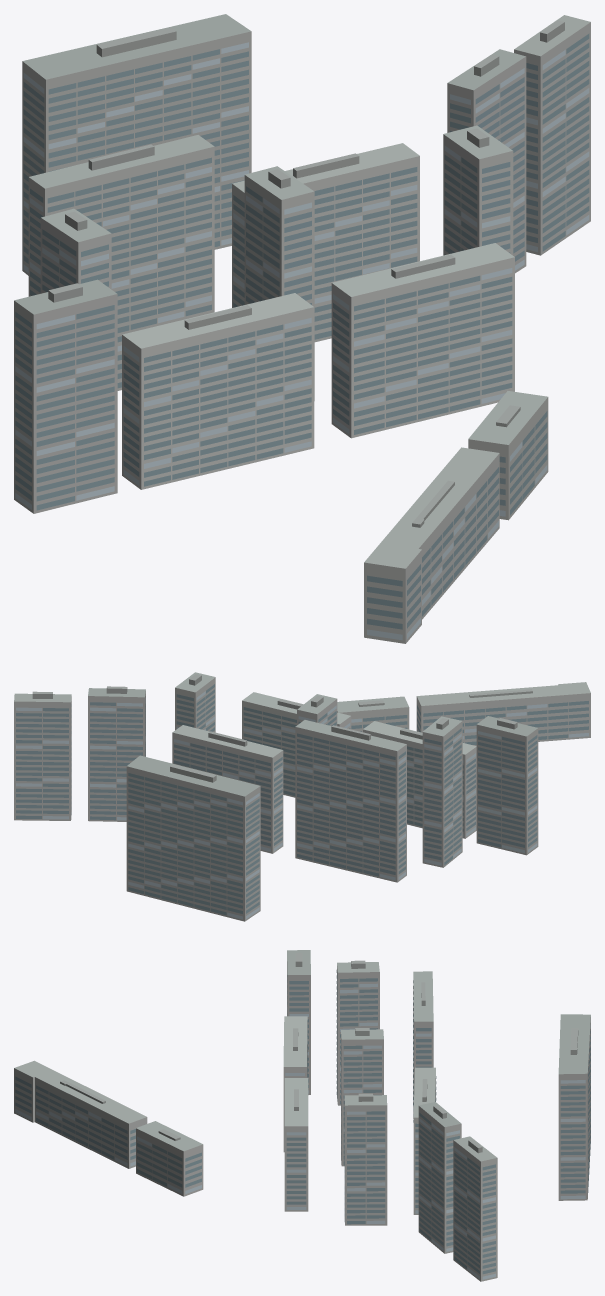
Rendered from apt-a15210212.glb.
3 views of the same model, one above another, from view 1: azimuth 30°, elevation 25°; view 2: azimuth 150°, elevation 25°; view 3: azimuth 270°, elevation 25° (orthographic). The views are drawn at different scales.
Visible parts, largest first — view 1: apt-a15210212; view 2: apt-a15210212; view 3: apt-a15210212.
Part boxes in pixels (left/top/right/bottom): apt-a15210212: left=14, top=14, right=590, bottom=643; apt-a15210212: left=14, top=672, right=590, bottom=921; apt-a15210212: left=14, top=950, right=590, bottom=1281.
Bounding box in the file's own units: 213 × 65 × 246.
